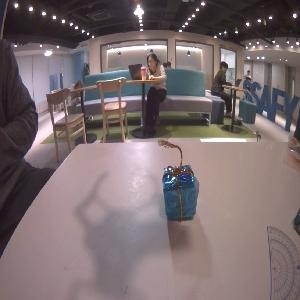box: (160, 165, 201, 222)
